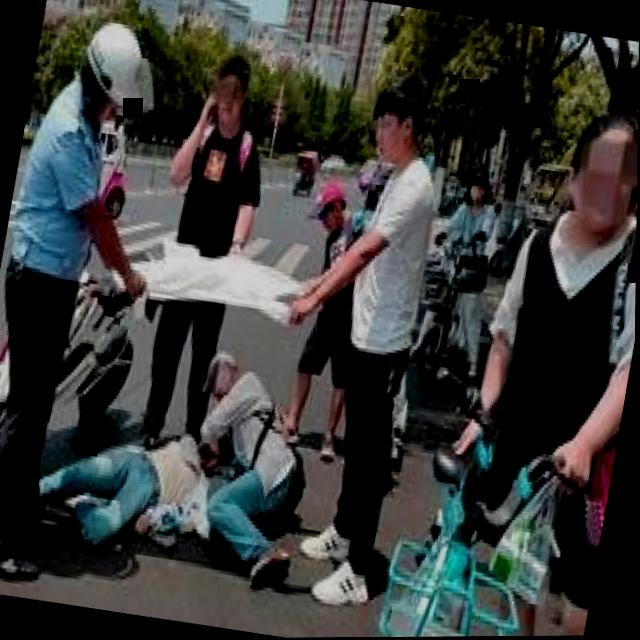Fall-Detected: (24, 388, 232, 576)
